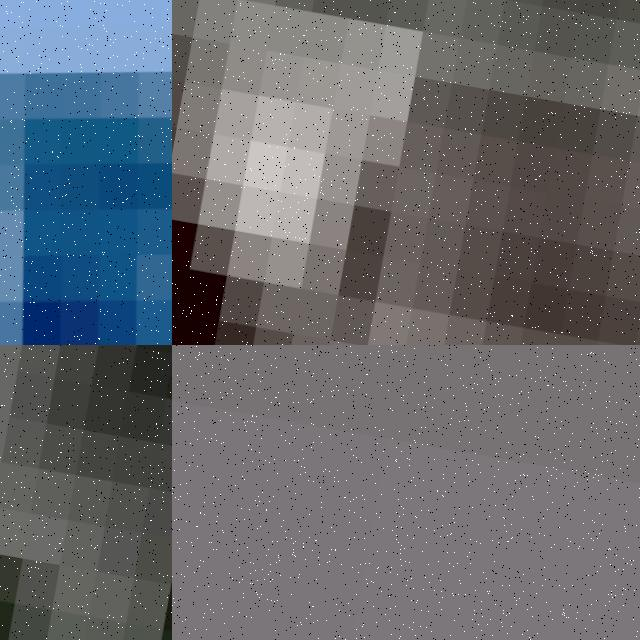drone: (0, 0, 172, 345)
